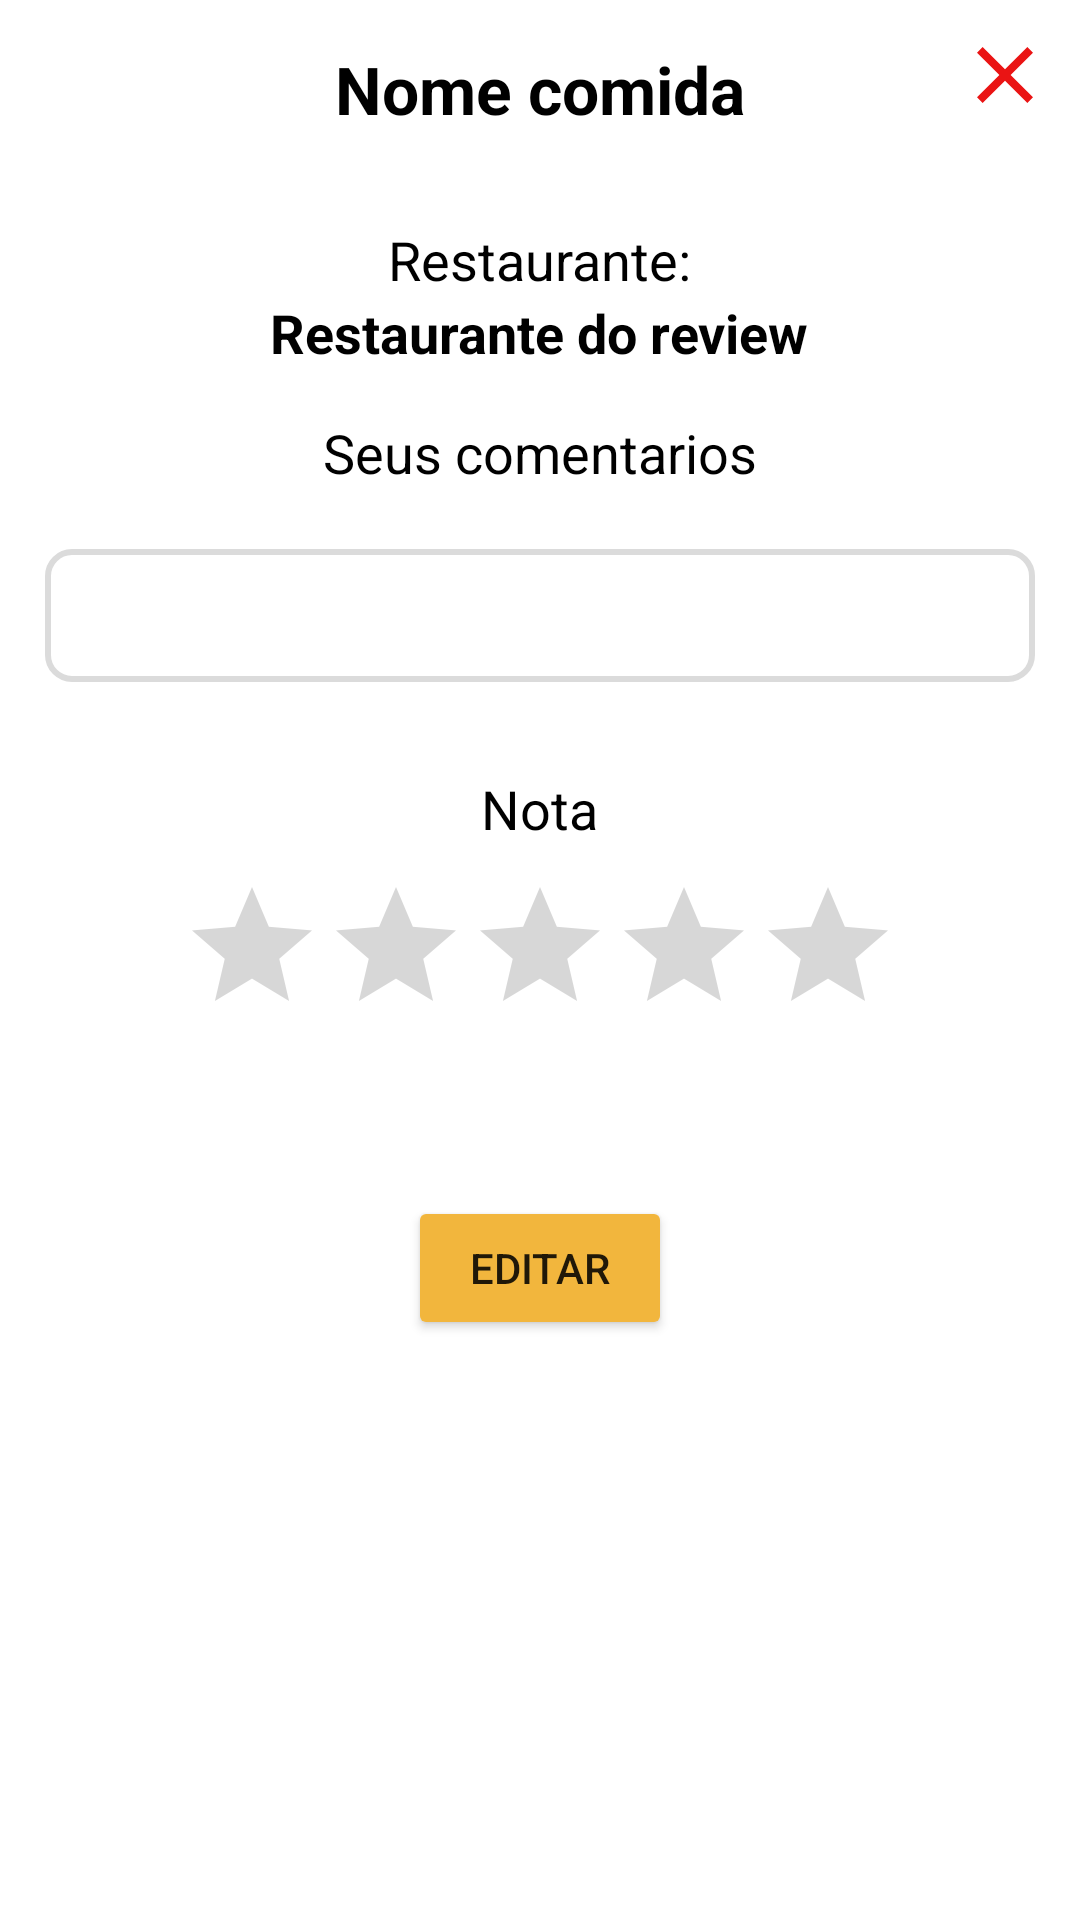

Icon bounding boxes for this 1080×1920 phone screenshot, format box(x1, y1, x2, y2):
close: box(977, 47, 1033, 103)
